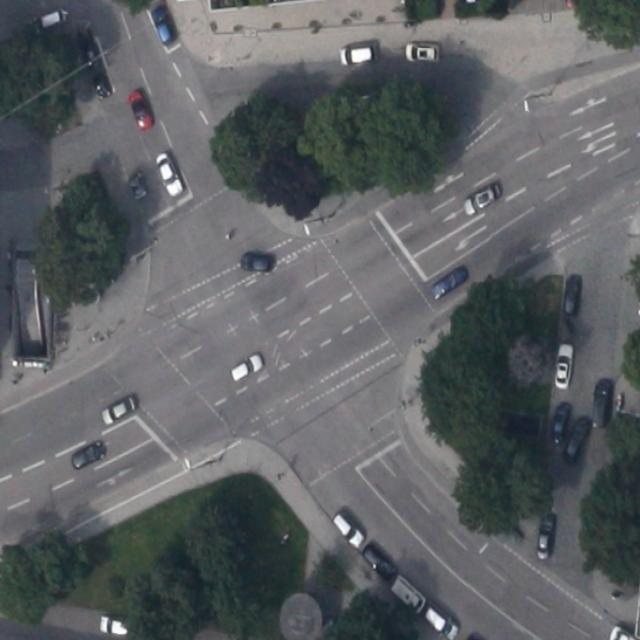UAI: (389, 573, 426, 616), (361, 541, 397, 583), (153, 150, 183, 199), (462, 182, 501, 217), (422, 601, 457, 640), (563, 417, 592, 463), (430, 265, 468, 300), (332, 511, 365, 551), (150, 3, 177, 47), (128, 88, 154, 133), (31, 4, 67, 36), (229, 352, 263, 385), (101, 394, 136, 426), (70, 440, 107, 470), (592, 379, 614, 429), (553, 342, 574, 390), (534, 513, 555, 561), (548, 404, 571, 447), (562, 271, 582, 316), (90, 64, 113, 102), (339, 43, 375, 67), (99, 612, 131, 636), (405, 42, 439, 63), (241, 251, 273, 272), (129, 171, 147, 201)
